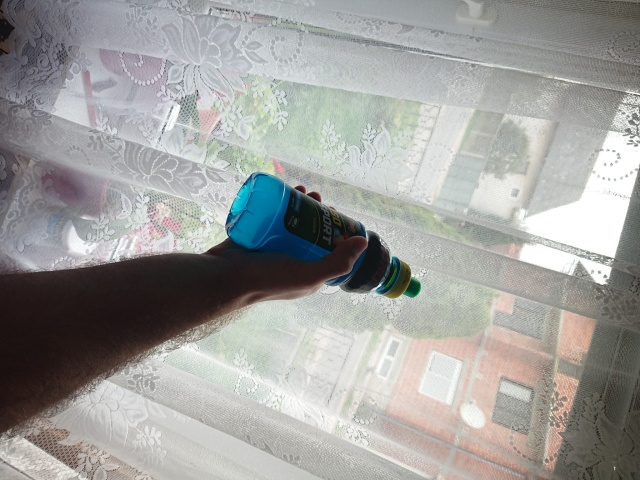Vindi Iso Sport Forest Strawberries 500mL: (223, 170, 423, 300)
